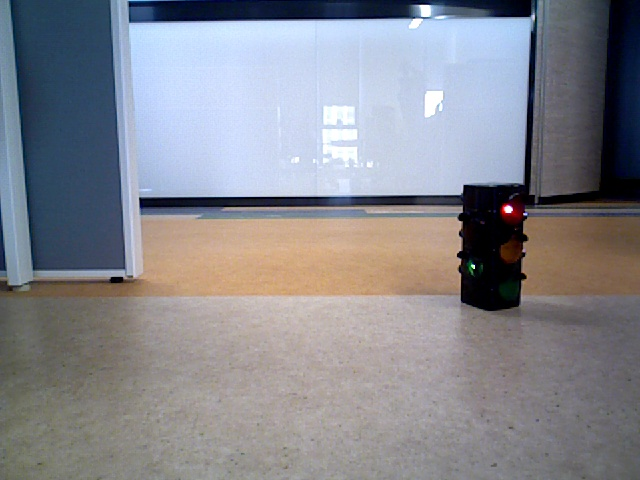red: (465, 188, 523, 303)
